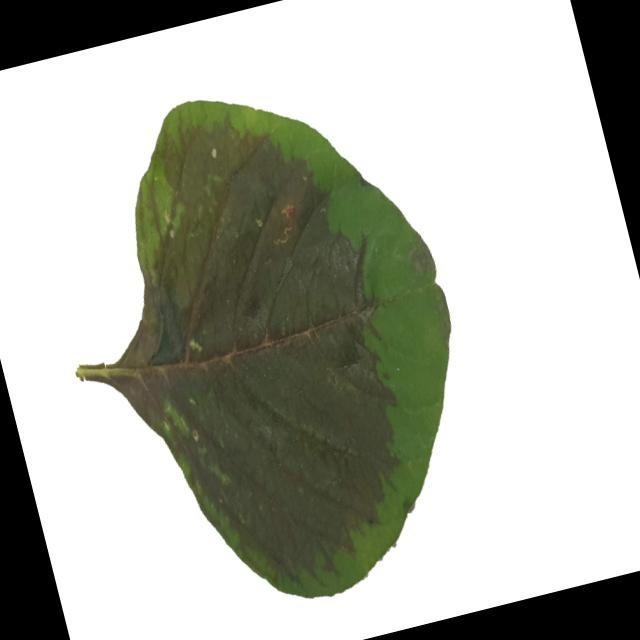Medicinal-Arive Dantu: (18, 50, 510, 640)
